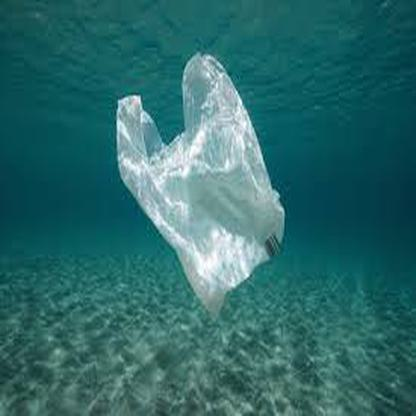plastic bag: (114, 51, 284, 313)
